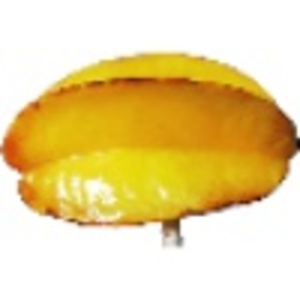carambola: (1, 50, 300, 248)
